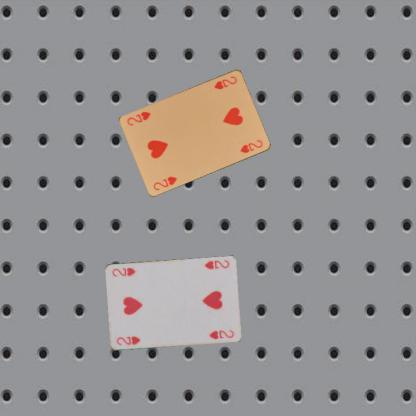2h: (151, 173, 178, 191), (212, 74, 238, 90), (202, 258, 230, 271), (114, 334, 141, 346)
